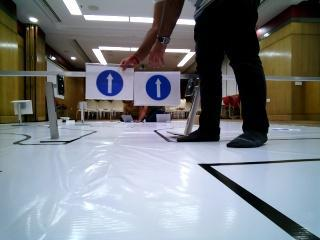straight: (85, 65, 131, 96), (139, 74, 177, 103)
